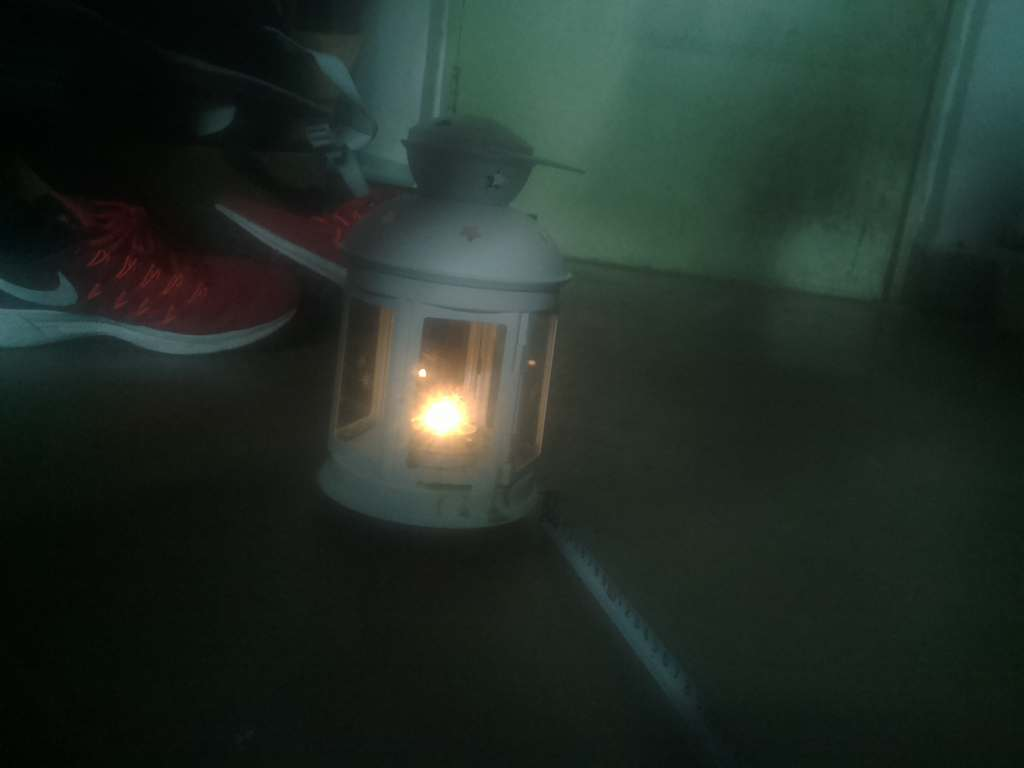fire: (396, 360, 504, 474)
